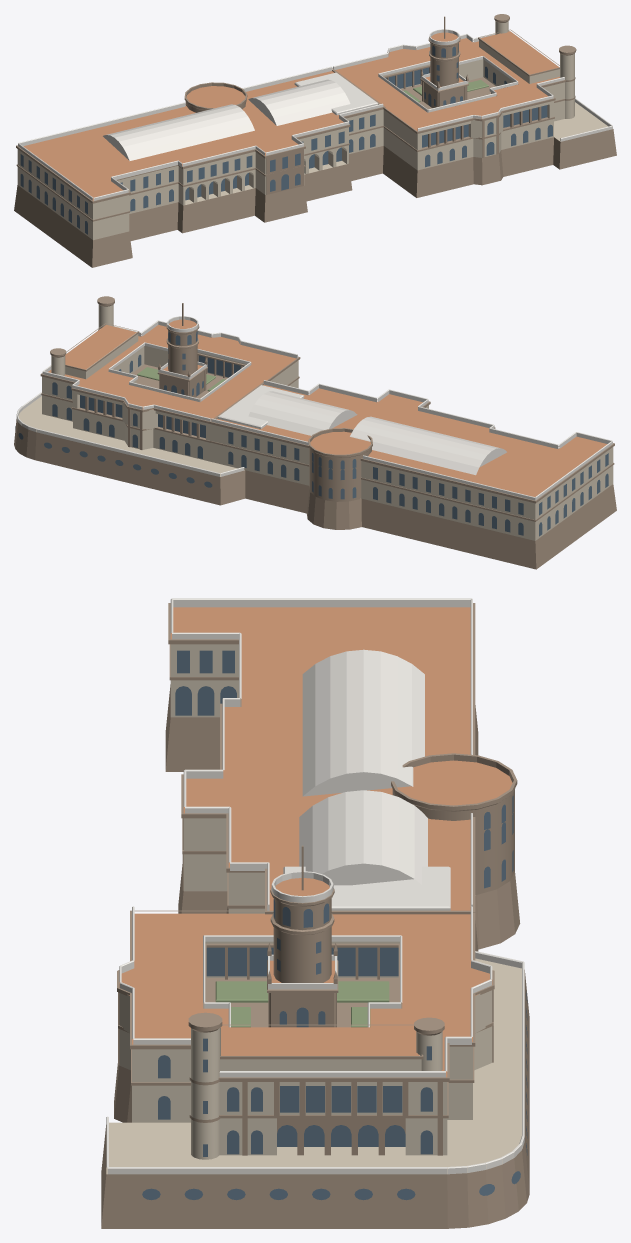
File: mexico-city-chapultepec-castle.glb
The picture shows the model from 3 angles, top to bottom: view 1: azimuth 30°, elevation 25°; view 2: azimuth 150°, elevation 25°; view 3: azimuth 270°, elevation 25°; orthographic projection. The views are drawn at different scales.
Visible parts, largest first — view 1: Chapultepec Castle; view 2: Chapultepec Castle; view 3: Chapultepec Castle.
Boxes of the visible parts, x1,y1,x2,y2 form: Chapultepec Castle: (14, 14, 616, 267); Chapultepec Castle: (14, 296, 616, 569); Chapultepec Castle: (101, 598, 529, 1228).
Bounding box in the file's own units: 183 × 45.2 × 66.6.
